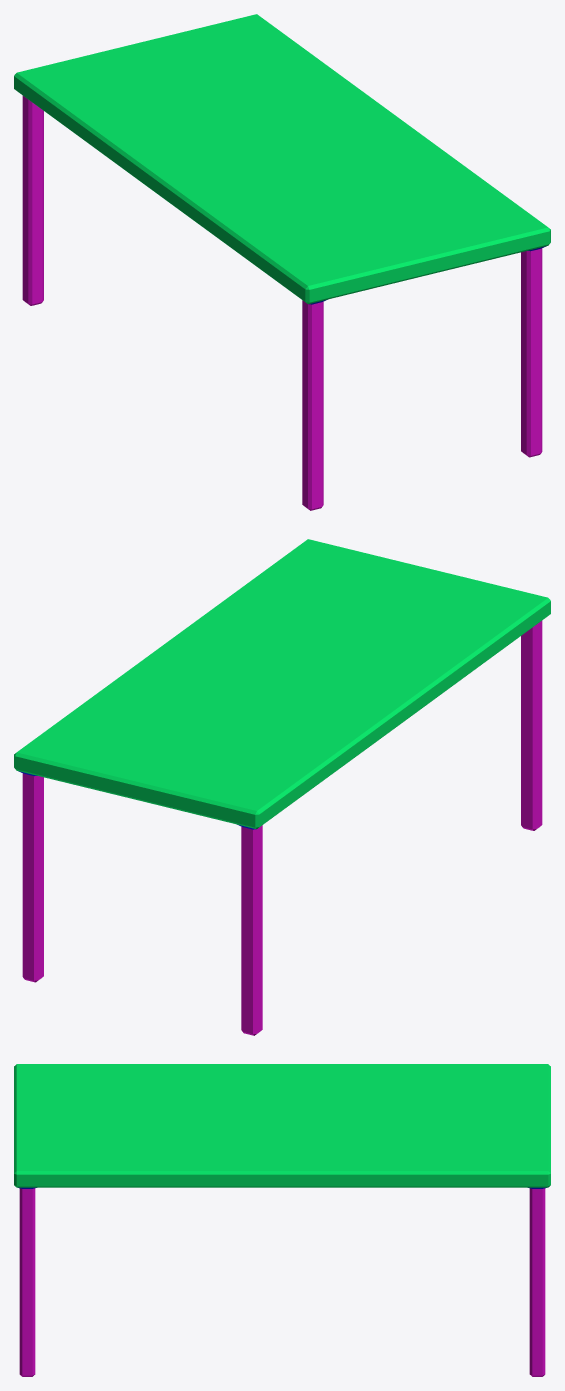
Rendered from table.fbx.
The picture shows the model from 3 angles, top to bottom: view 1: azimuth 30°, elevation 25°; view 2: azimuth 150°, elevation 25°; view 3: azimuth 270°, elevation 25°; orthographic projection. The views are drawn at different scales.
Visible parts, largest first — view 1: Cube, Cube.001; view 2: Cube, Cube.001; view 3: Cube, Cube.001.
Part boxes in pixels (bbox=[...]): Cube: bbox=[14, 14, 550, 304]; Cube.001: bbox=[22, 95, 542, 510]; Cube: bbox=[14, 539, 550, 829]; Cube.001: bbox=[22, 620, 542, 1035]; Cube: bbox=[14, 1064, 550, 1187]; Cube.001: bbox=[19, 1188, 545, 1376].
Size of the model in its own units: 289 by 257 by 600.
